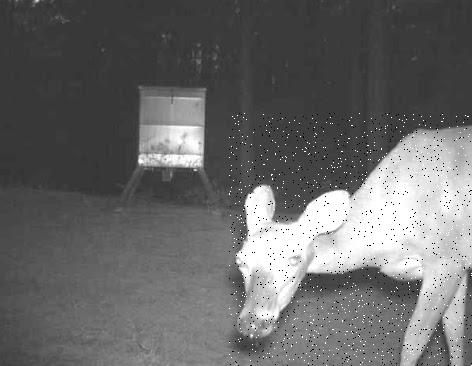Deer: (229, 113, 472, 366)
